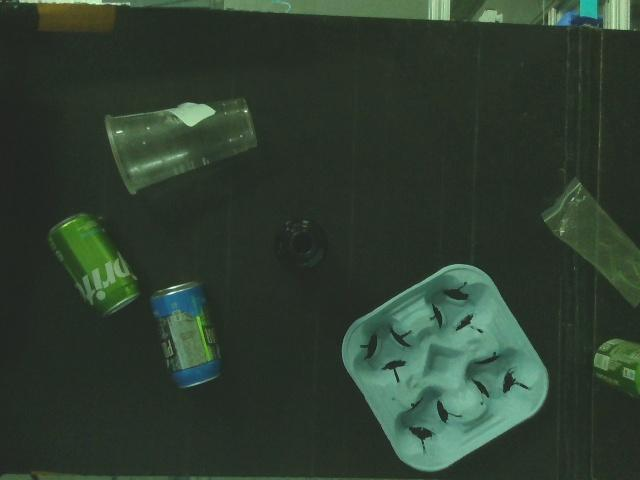cardboard: (339, 261, 551, 474)
glass: (270, 213, 337, 282)
metal: (44, 209, 146, 322), (146, 275, 228, 396), (588, 336, 640, 403)
plastic: (99, 89, 263, 203), (537, 170, 640, 313)
